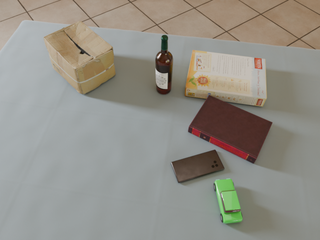book: (188, 95, 272, 163)
bottle: (155, 35, 173, 94)
box: (44, 21, 115, 94), (185, 50, 266, 106)
phone: (171, 150, 224, 183)
toy_car: (214, 179, 242, 223)
